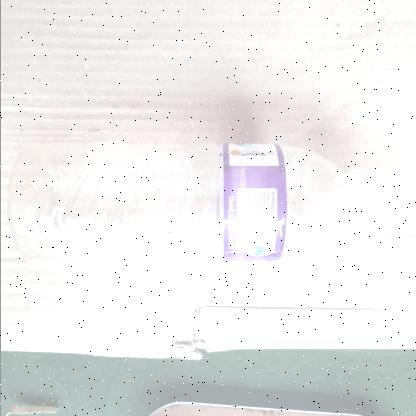Plastic Bottle: (5, 142, 389, 266)
